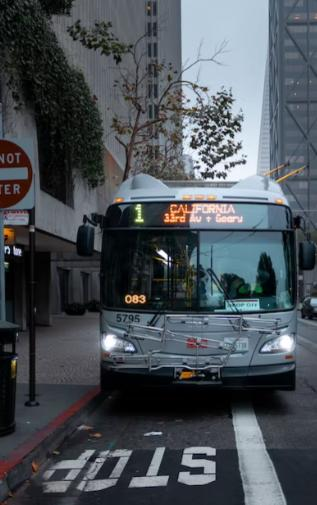vehicle: (75, 172, 317, 393)
